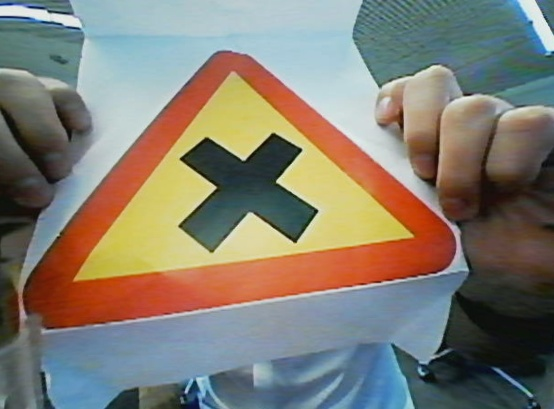junction: (29, 40, 460, 315)
